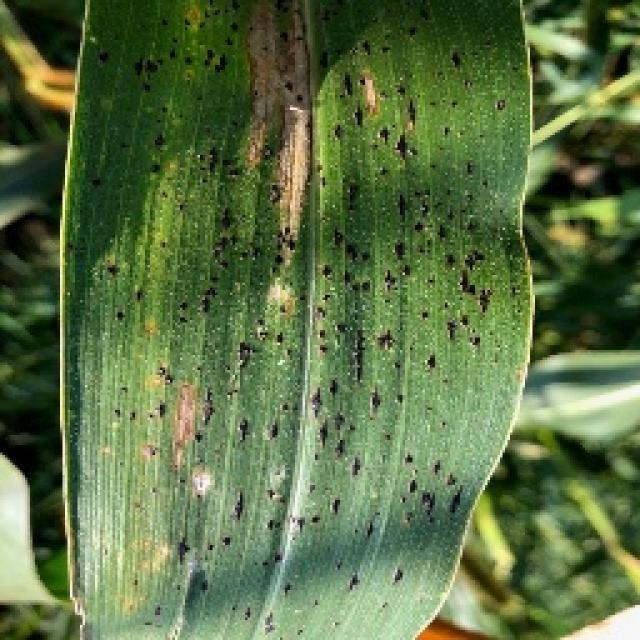Tar_Spot: (221, 266, 408, 476), (429, 229, 513, 383)
